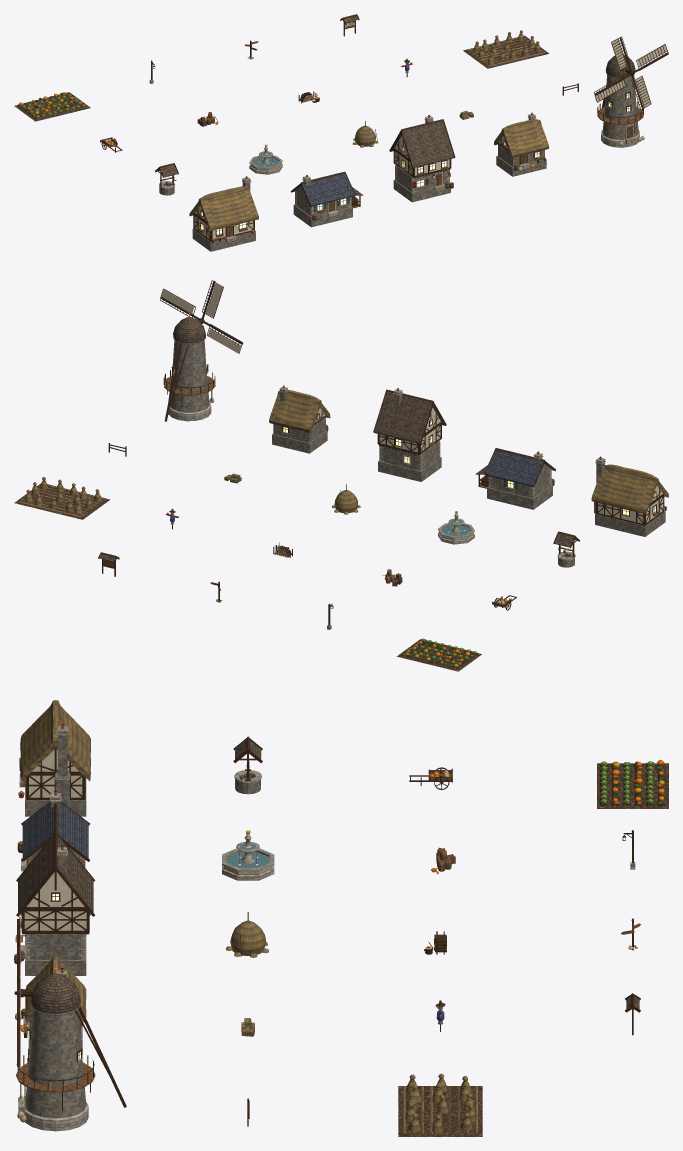
The model's file is vp-kit.glb.
The picture shows the model from 3 angles, top to bottom: view 1: azimuth 30°, elevation 25°; view 2: azimuth 150°, elevation 25°; view 3: azimuth 270°, elevation 25°; orthographic projection. The views are drawn at different scales.
Visible parts, largest first — view 1: vp_cottage_c, vp_cottage_a, vp_cottage_b, vp_windmill, vp_cottage_d, vp_field_wheat, windmill_blades, vp_field_veg, vp_fountain, vp_well, vp_haystack; view 2: vp_cottage_c, vp_cottage_a, vp_windmill, vp_cottage_b, vp_cottage_d, vp_field_wheat, vp_field_veg, windmill_blades, vp_fountain, vp_well; view 3: vp_windmill, vp_cottage_c, vp_cottage_a, vp_field_wheat, vp_field_veg, vp_cottage_b, vp_fountain, vp_cottage_d, vp_well, vp_haystack, windmill_blades.
Part boxes in pixels (x1,y1,x2,y2): vp_cottage_c: [389, 115, 455, 202]; vp_cottage_a: [189, 176, 258, 251]; vp_cottage_b: [291, 171, 363, 227]; vp_windmill: [597, 55, 644, 147]; vp_cottage_d: [494, 112, 549, 176]; vp_field_wheat: [463, 30, 549, 68]; windmill_blades: [594, 36, 668, 109]; vp_field_veg: [14, 92, 90, 121]; vp_fountain: [249, 144, 282, 174]; vp_well: [155, 163, 178, 195]; vp_haystack: [352, 121, 378, 147]; vp_cottage_c: [373, 388, 446, 481]; vp_cottage_a: [591, 456, 668, 536]; vp_windmill: [163, 313, 215, 421]; vp_cottage_b: [475, 448, 555, 509]; vp_cottage_d: [269, 385, 330, 453]; vp_field_wheat: [14, 477, 110, 519]; vp_field_veg: [397, 638, 481, 671]; windmill_blades: [160, 280, 243, 353]; vp_fountain: [438, 511, 474, 544]; vp_well: [553, 531, 579, 567]; vp_windmill: [16, 968, 126, 1131]; vp_cottage_c: [14, 830, 95, 975]; vp_cottage_a: [18, 700, 90, 816]; vp_field_wheat: [398, 1073, 482, 1136]; vp_field_veg: [597, 759, 668, 808]; vp_cottage_b: [17, 791, 90, 871]; vp_fountain: [222, 830, 274, 880]; vp_cottage_d: [15, 955, 86, 1054]; vp_well: [233, 736, 262, 794]; vp_haystack: [226, 912, 268, 957]; windmill_blades: [14, 916, 23, 1069].
Size of the model in its own units: 74.54 by 18.04 by 54.47.
Materials: 12 (10 with a texture image).
